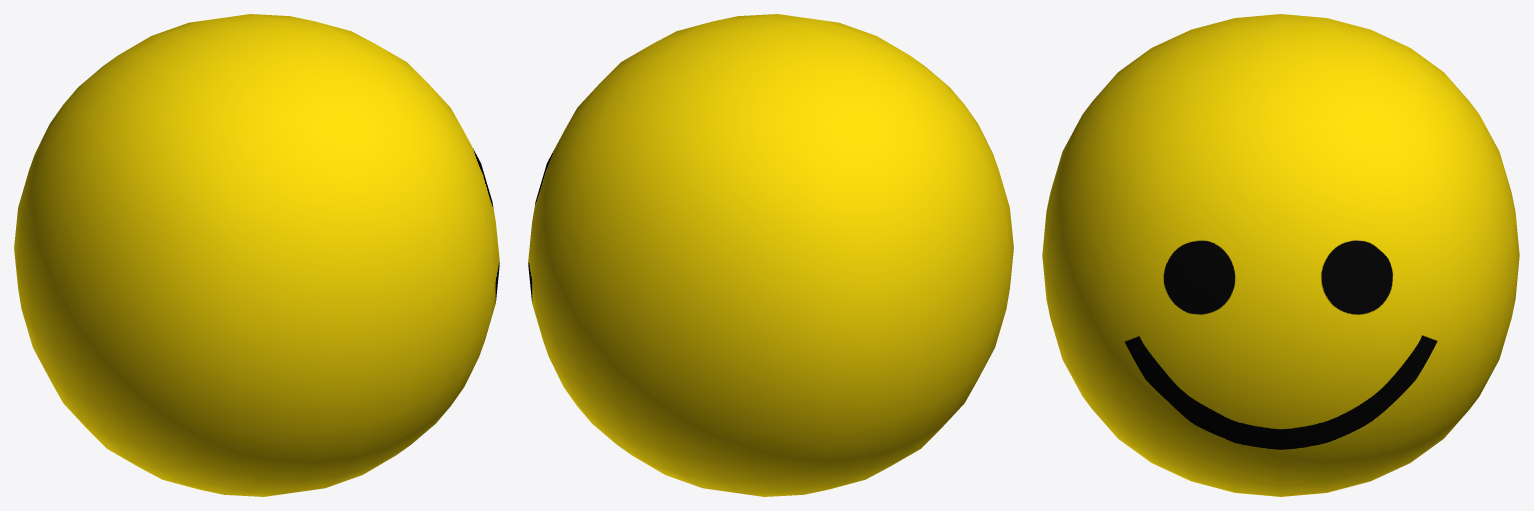
File: asset.glb
3 renders of one model, left to right at view 1: azimuth 30°, elevation 25°; view 2: azimuth 150°, elevation 25°; view 3: azimuth 270°, elevation 25°, orthographic.
Visible parts, largest first — view 1: Cube.007; view 2: Cube.007; view 3: Cube.007.
Part boxes in pixels (left/top/right/bottom): Cube.007: left=14, top=14, right=499, bottom=496; Cube.007: left=528, top=14, right=1013, bottom=496; Cube.007: left=1042, top=14, right=1519, bottom=496.
Bounding box in the file's own units: 1.68 × 1.68 × 1.68.
1 material, 1 textured.
